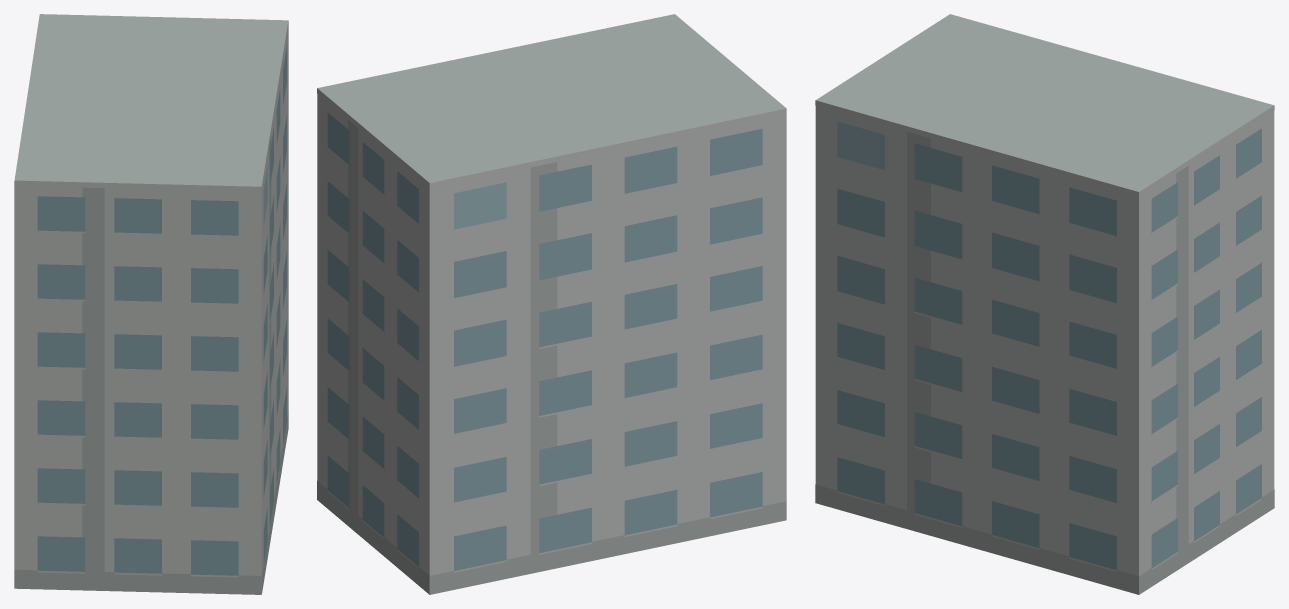
File: survey-upis-32704291.glb
The picture shows the model from 3 angles, left to right: view 1: azimuth 30°, elevation 25°; view 2: azimuth 150°, elevation 25°; view 3: azimuth 270°, elevation 25°; orthographic projection. The views are drawn at different scales.
Visible parts, largest first — view 1: survey-upis-32704291.tmp; view 2: survey-upis-32704291.tmp; view 3: survey-upis-32704291.tmp.
Boxes of the visible parts, x1,y1,x2,y2 form: survey-upis-32704291.tmp: (14, 14, 288, 594); survey-upis-32704291.tmp: (317, 14, 786, 594); survey-upis-32704291.tmp: (815, 14, 1274, 594).
Bounding box in the file's own units: 17.36 × 18.3 × 18.9.
